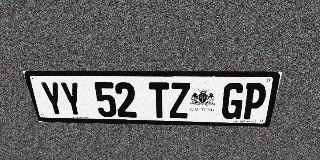2: (114, 82, 137, 117)
5: (94, 82, 118, 117)
G: (220, 83, 246, 119)
P: (241, 83, 268, 120)
T: (148, 82, 169, 118)
Y: (39, 82, 67, 116), (59, 82, 85, 117)
Z: (170, 82, 190, 118)
